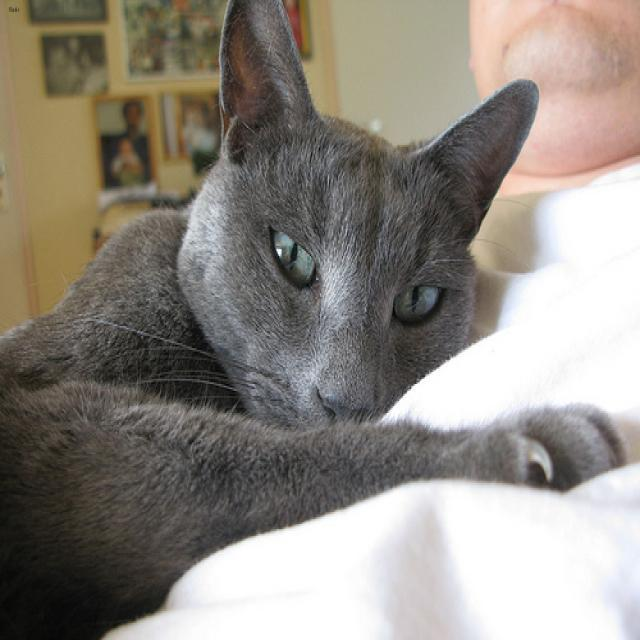Russian_Blue: (171, 0, 542, 442)
